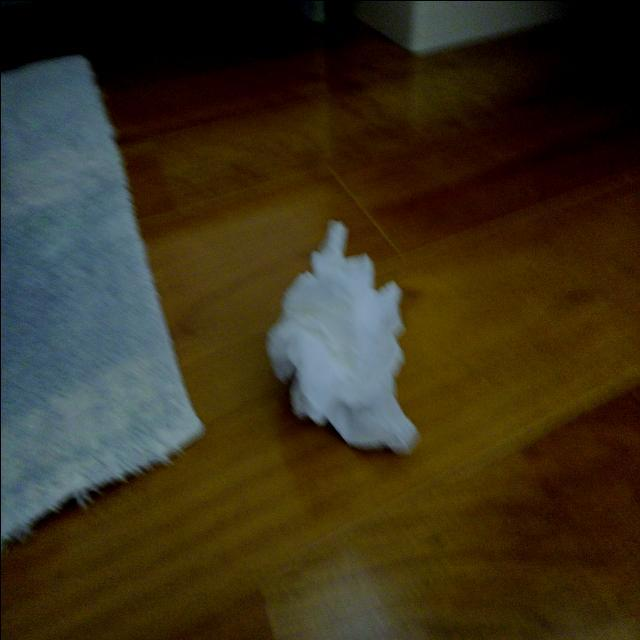Paper: (261, 214, 446, 457)
